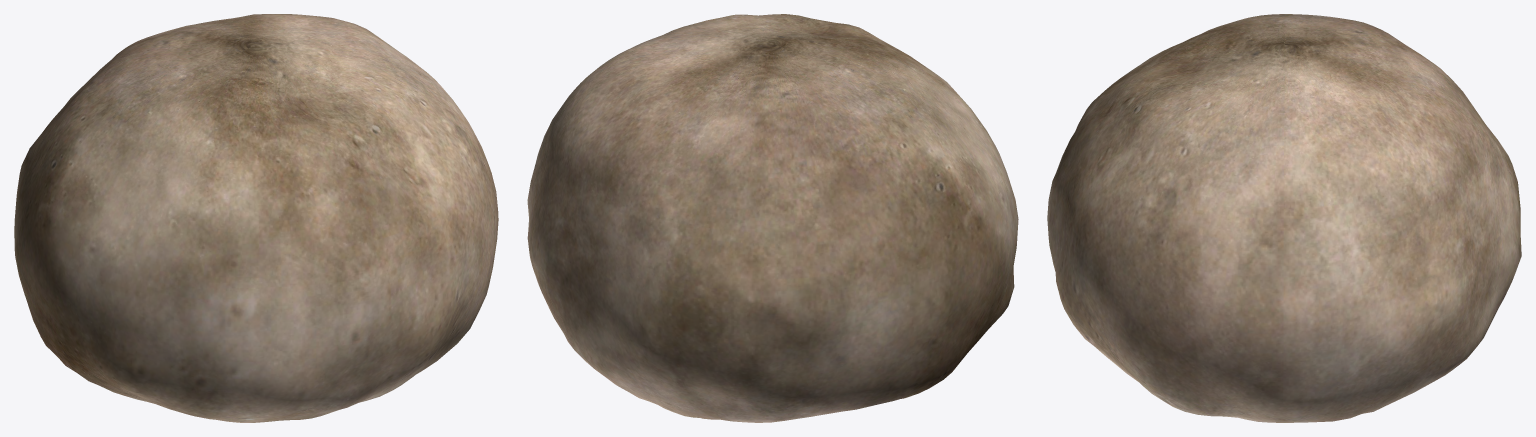
The model's file is vesta.glb.
3 views of the same model, side by side, from view 1: azimuth 30°, elevation 25°; view 2: azimuth 150°, elevation 25°; view 3: azimuth 270°, elevation 25° (orthographic).
Visible parts, largest first — view 1: vesta; view 2: vesta; view 3: vesta.
Part boxes in pixels (bbox=[...]): vesta: bbox=[14, 14, 498, 422]; vesta: bbox=[527, 14, 1018, 422]; vesta: bbox=[1047, 14, 1521, 422].
Bounding box in the file's own units: 558 × 443 × 543.
Materials: 1 (1 with a texture image).
